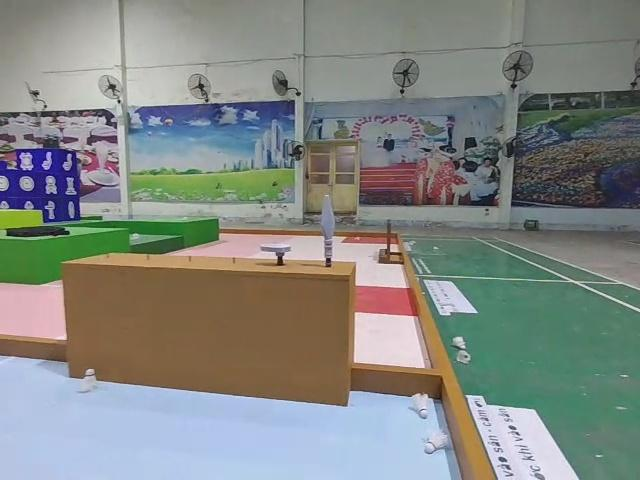Hand: (260, 242, 293, 267)
Sph: (320, 193, 340, 267)
